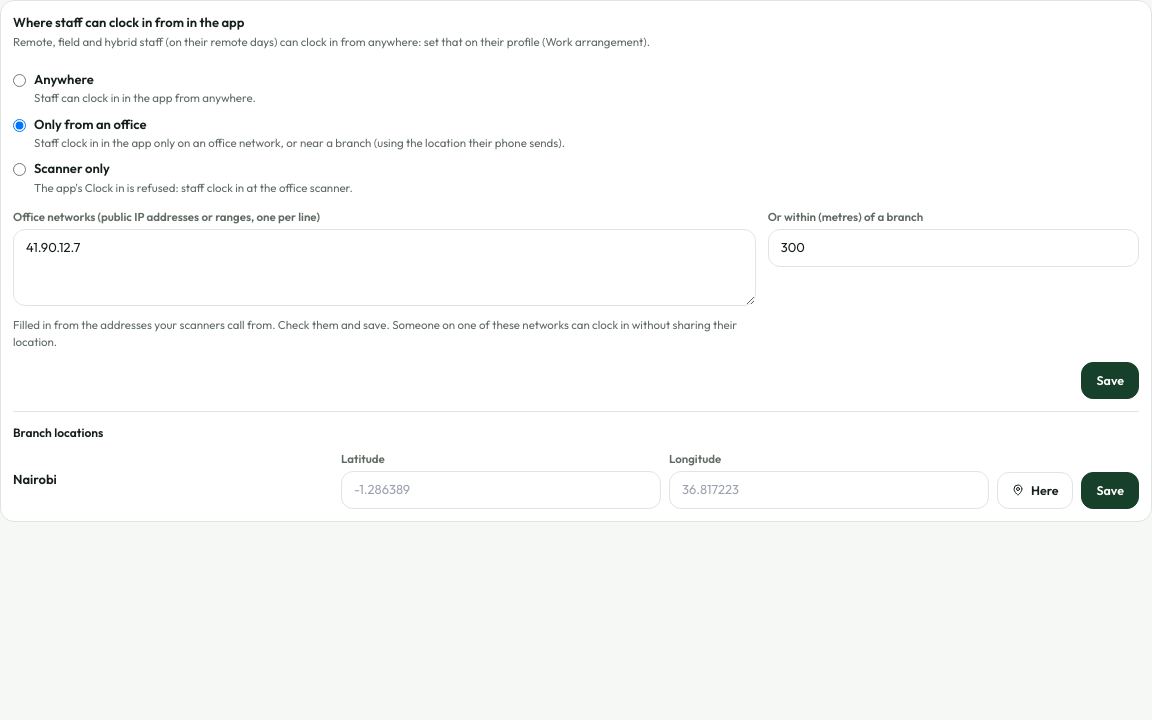
ClockInPolicy › sets a branch’s location from the phone and saves it
Later steps or results of the test are not shown.
Click the button with aria-label "Use my location for Nairobi" at (1035, 490), box [997,472,1074,509]
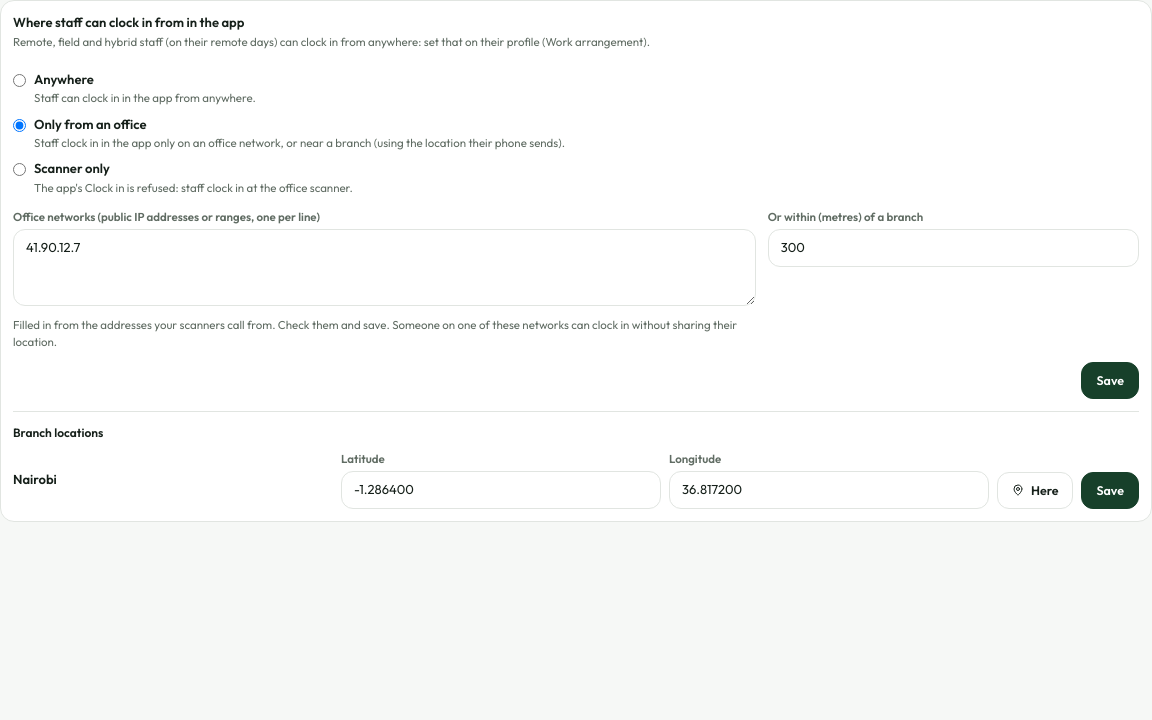
Check: the field labelled "Latitude" holds "-1.286400", box [341,471,661,509]
